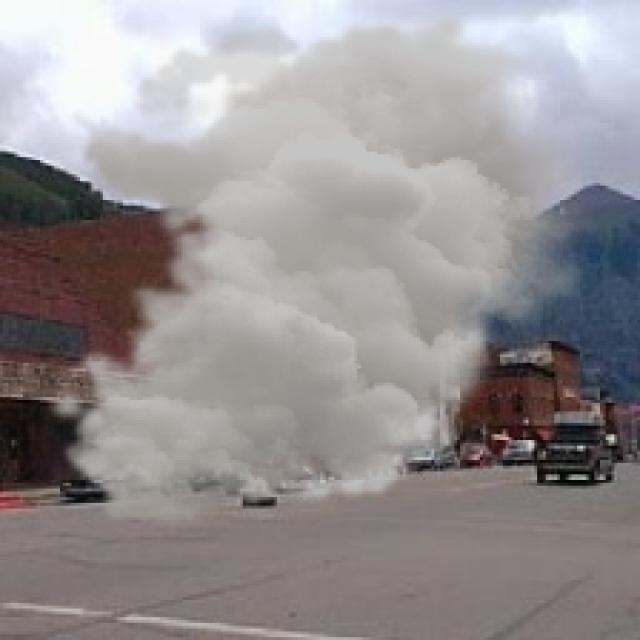smoke: (43, 9, 597, 528)
